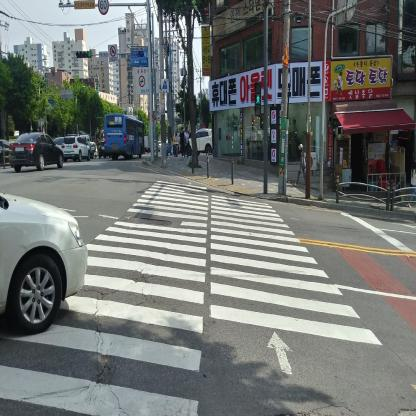Green: (254, 81, 261, 116)
